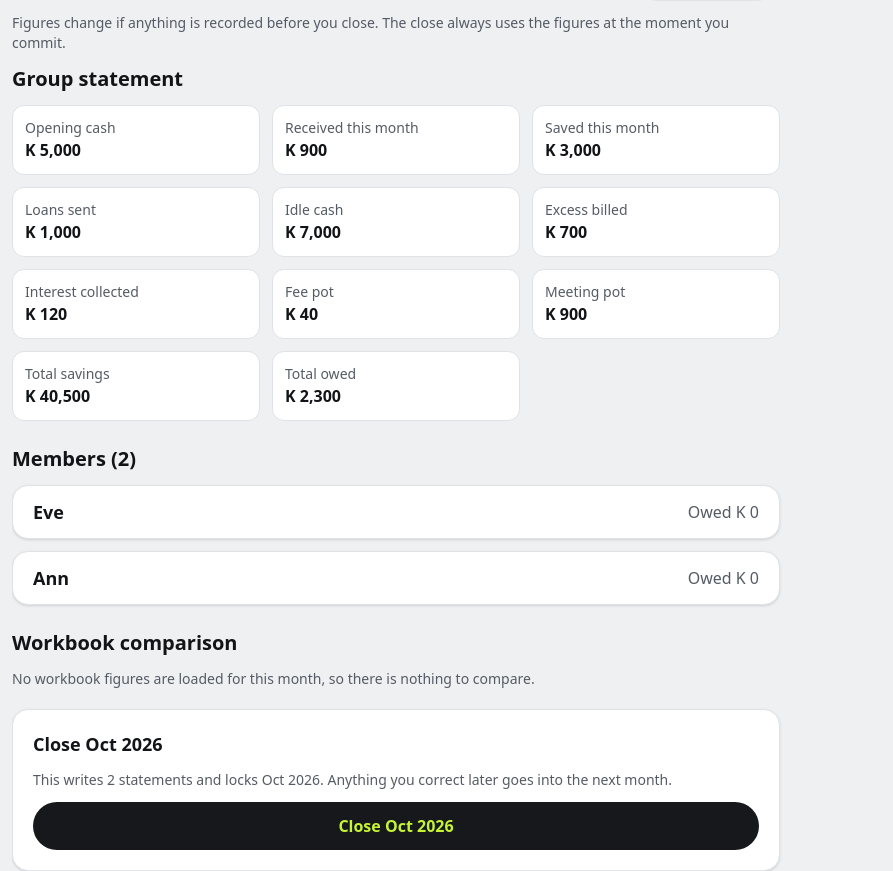
Test: an unexplained-differences refusal from the server is shown in plain words
The image size is (893, 871).
(page scrolled)
Click the button "Close Oct 2026": (396, 826) [33,802,759,850]
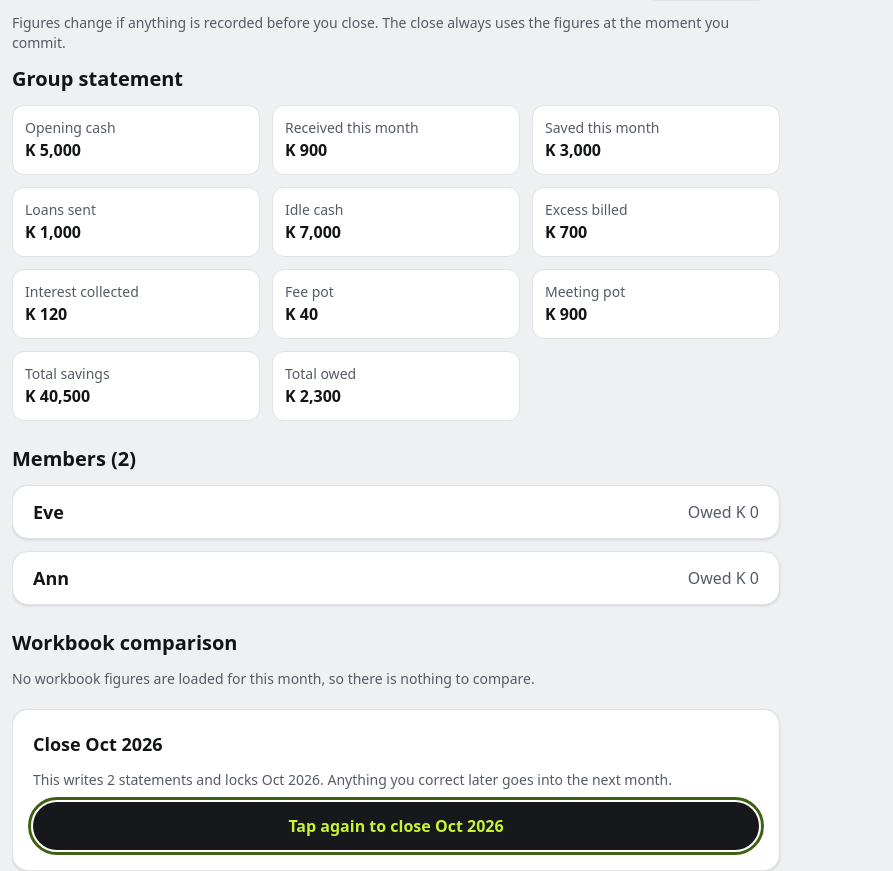
Click the button "Tap again to close Oct 2026": (396, 826) [33,802,759,850]
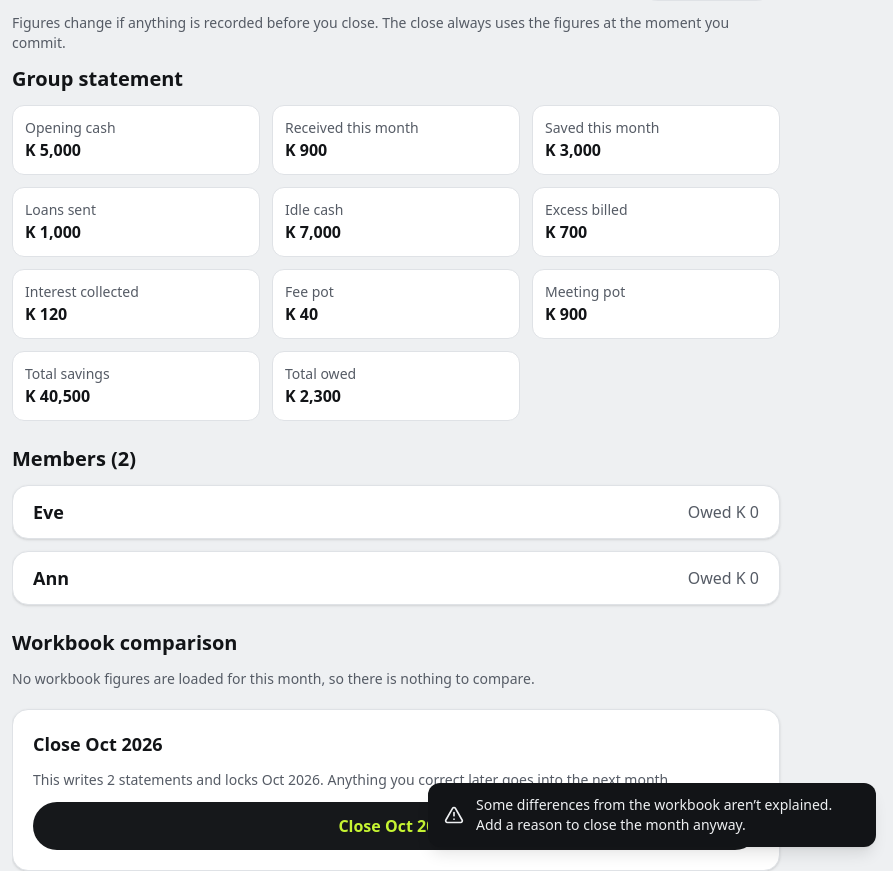
Check: the text "Some differences from the workbook aren’t explained. Add a reason to close the month anyway." is shown, box [476,795,832,834]
